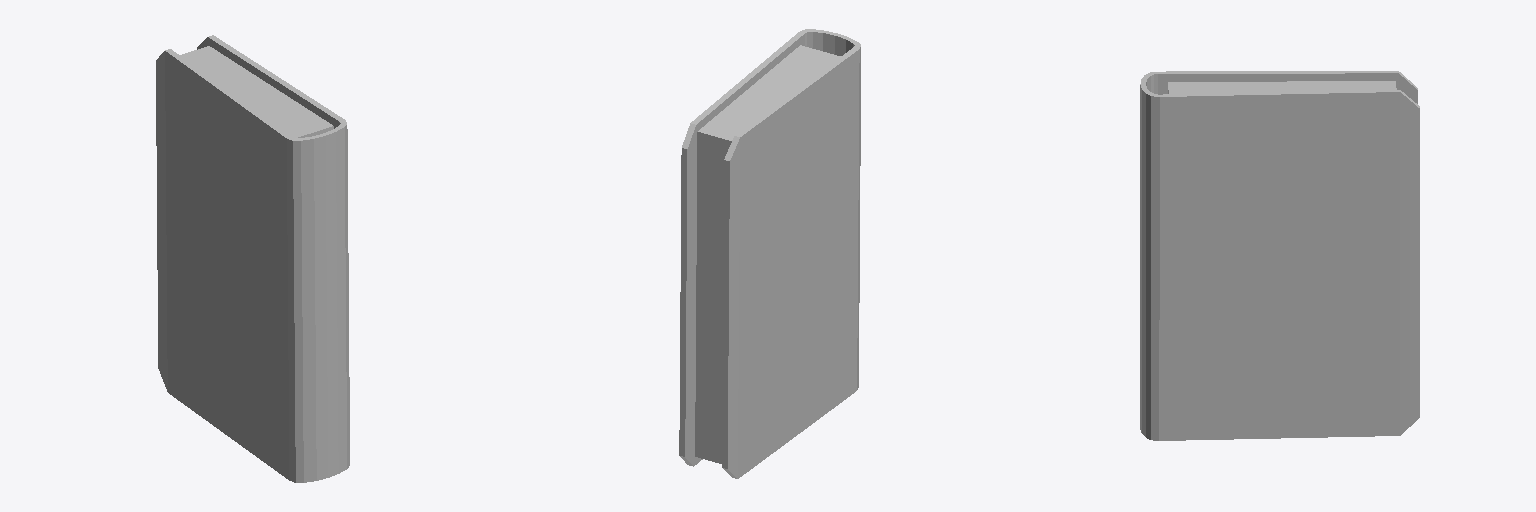
Rendered from SM_Libro.obj.
The picture shows the model from 3 angles: view 1: azimuth 30°, elevation 25°; view 2: azimuth 150°, elevation 25°; view 3: azimuth 270°, elevation 25°; orthographic projection.
Visible parts, largest first — view 1: Libro; view 2: Libro; view 3: Libro.
Boxes of the visible parts, x1,y1,x2,y2 form: Libro: [156, 35, 349, 482]; Libro: [679, 29, 860, 478]; Libro: [1140, 71, 1419, 440].
Size of the model in its own units: 0.3103 by 1.62 by 1.19.